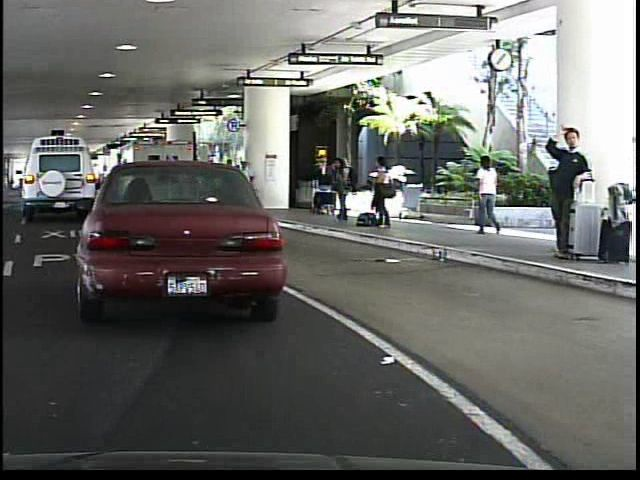person: (540, 120, 591, 262), (467, 154, 505, 237), (365, 154, 392, 230), (637, 126, 639, 269)
